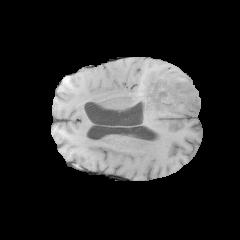glioma: (138, 68, 200, 115)
